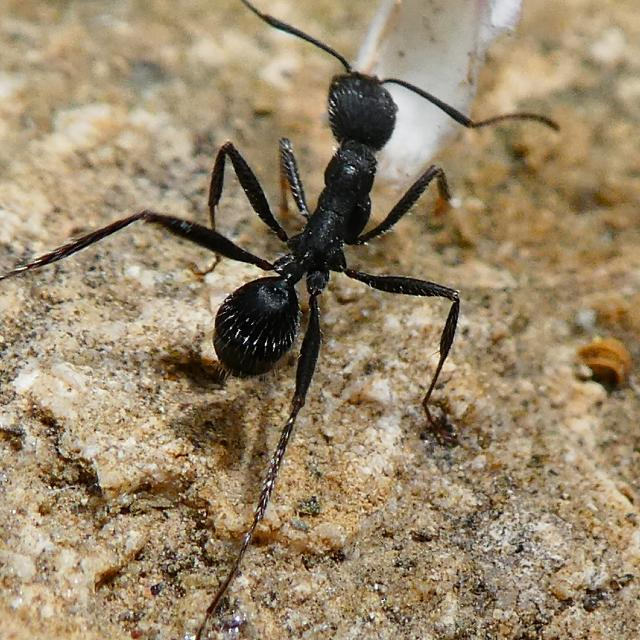Apheanogaster: (176, 8, 480, 418)
